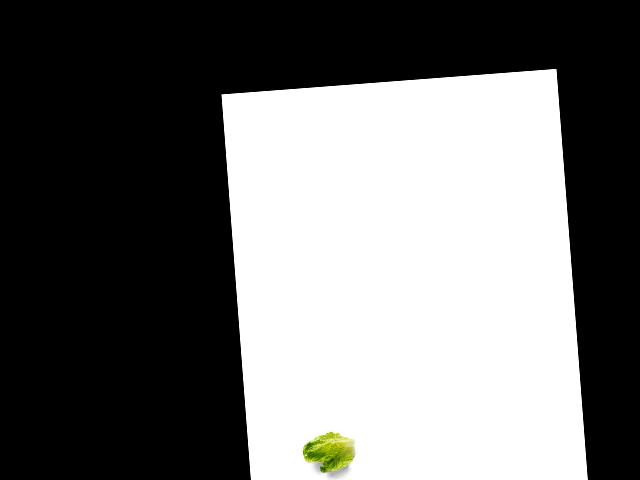lettuce: (298, 428, 362, 475)
